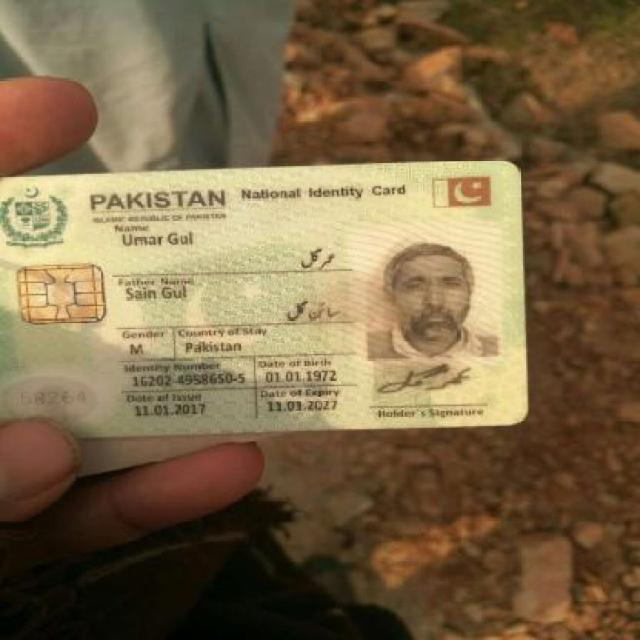Front: (4, 162, 536, 436)
